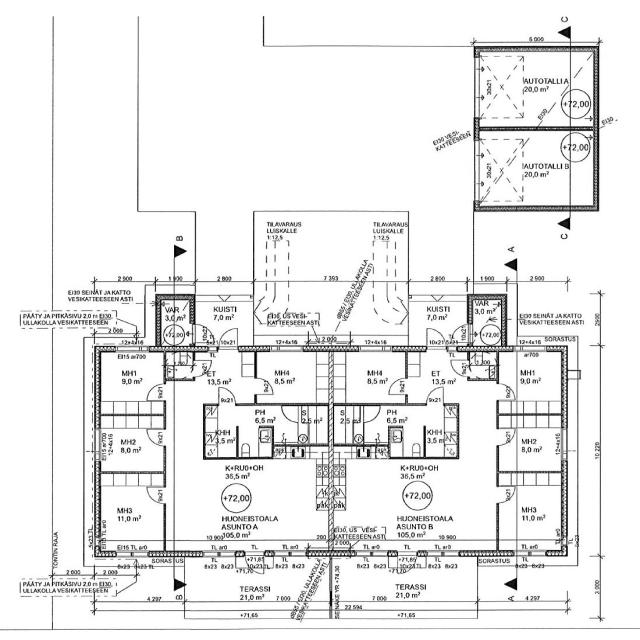door: (424, 326, 447, 350), (217, 326, 240, 350), (494, 381, 517, 402), (279, 403, 301, 424), (252, 376, 275, 396), (494, 427, 517, 447), (144, 428, 167, 448), (424, 385, 445, 406), (386, 376, 408, 396), (144, 382, 166, 402), (495, 484, 516, 504), (449, 324, 468, 345), (193, 322, 211, 344), (216, 386, 236, 405), (361, 404, 381, 423), (145, 486, 166, 504)
window: (471, 55, 483, 112), (471, 138, 482, 195), (267, 343, 305, 355), (356, 343, 393, 355), (559, 425, 571, 461), (90, 425, 100, 459), (518, 344, 548, 353), (114, 345, 142, 354), (285, 550, 308, 558), (114, 550, 134, 558), (272, 550, 294, 557), (441, 550, 460, 558), (528, 550, 546, 558), (132, 551, 150, 558), (354, 552, 372, 558), (371, 551, 388, 557), (202, 551, 218, 557)
zone: (475, 130, 582, 207), (476, 51, 574, 128), (262, 219, 368, 283), (95, 473, 166, 553), (496, 473, 564, 554), (496, 349, 564, 414), (330, 350, 407, 405), (97, 350, 164, 413), (254, 349, 330, 404), (496, 415, 564, 475), (96, 416, 166, 474), (332, 404, 415, 450), (407, 349, 468, 404), (193, 350, 254, 404), (236, 403, 296, 456), (354, 280, 410, 335), (406, 298, 468, 343), (194, 298, 252, 346), (374, 404, 424, 457), (202, 404, 240, 454), (424, 405, 458, 458), (469, 298, 504, 348), (159, 298, 193, 348), (477, 563, 512, 603), (332, 404, 364, 445), (298, 404, 328, 445), (468, 350, 498, 380), (164, 352, 194, 381)
